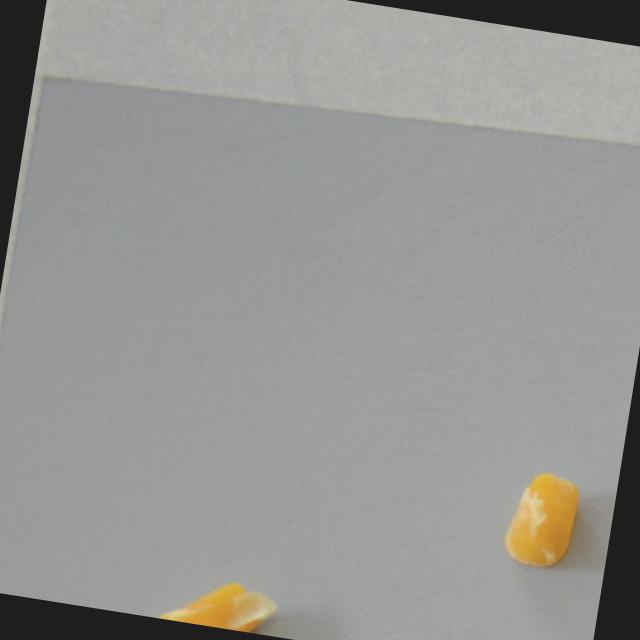pelicula: (146, 568, 284, 637), (499, 469, 584, 572)
